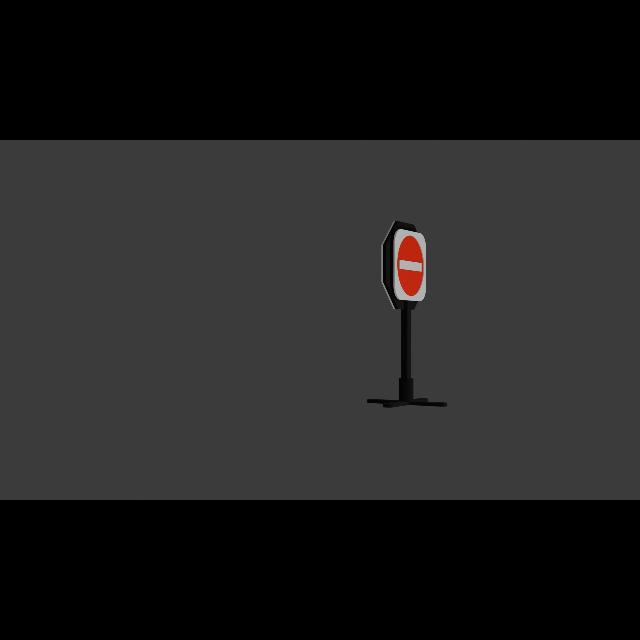sign_noentry: (397, 232, 427, 303)
